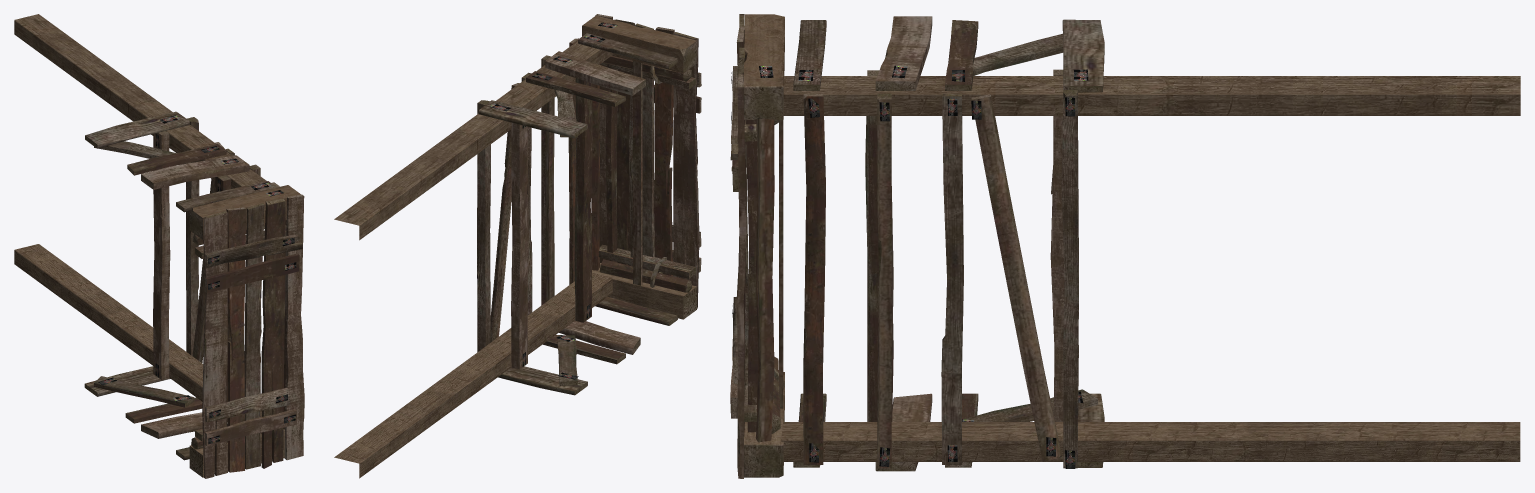
File: GEN_PRO_Bridge__Large_06A_LOD0-transformed.glb
3 views of the same model, side by side, from view 1: azimuth 30°, elevation 25°; view 2: azimuth 150°, elevation 25°; view 3: azimuth 270°, elevation 25° (orthographic). The views are drawn at different scales.
Visible parts, largest first — view 1: GEN_PRO_Bridge__Large_06A_LOD0; view 2: GEN_PRO_Bridge__Large_06A_LOD0; view 3: GEN_PRO_Bridge__Large_06A_LOD0.
Part boxes in pixels (x1,y1,x2,y2): GEN_PRO_Bridge__Large_06A_LOD0: (14, 14, 304, 478); GEN_PRO_Bridge__Large_06A_LOD0: (334, 14, 701, 478); GEN_PRO_Bridge__Large_06A_LOD0: (730, 14, 1520, 478).
Size of the model in its own units: 0.0255 by 0.0613 by 0.1093.
Materials: 4 (4 with a texture image).
